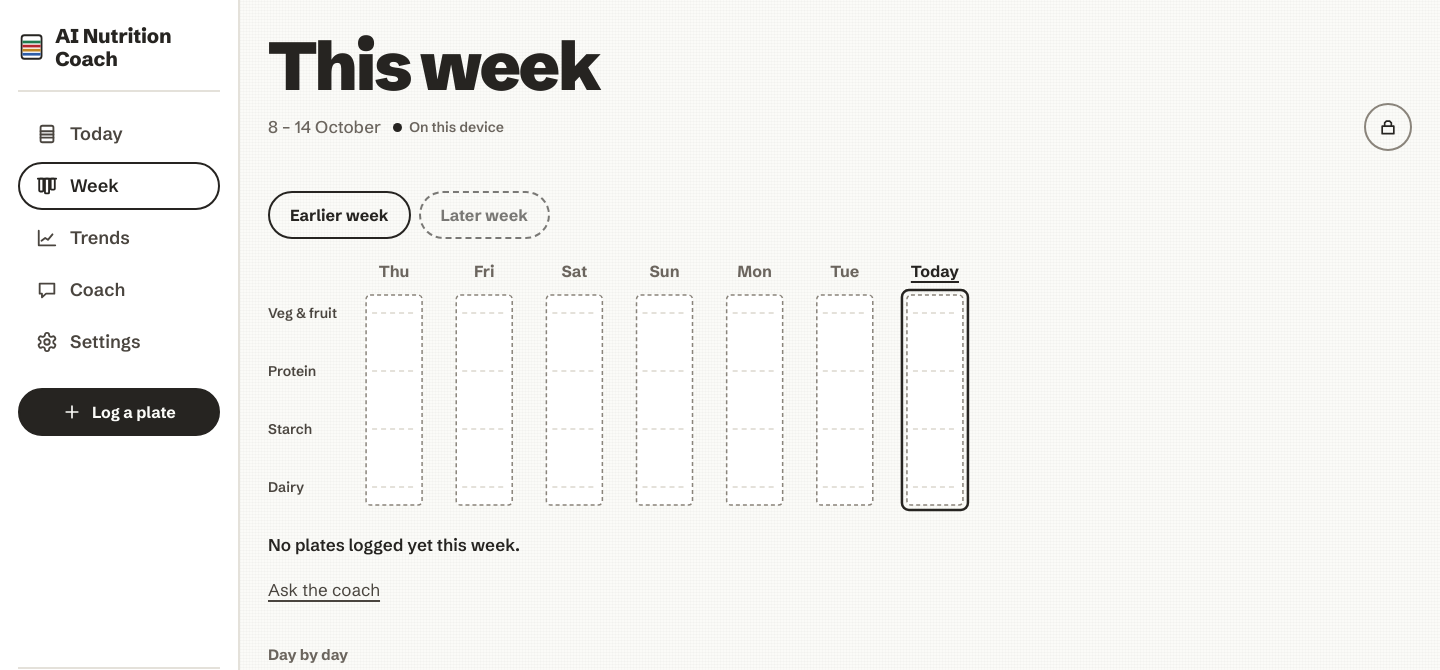
it: WeekScreen: an earlier week says so › an earlier week with nothing logged says it for those dates
Check: the heading "This week" is shown, box left=268, top=24, right=599, bottom=108
Click the button "Earlier week" at [339, 215], box left=268, top=191, right=411, bottom=239
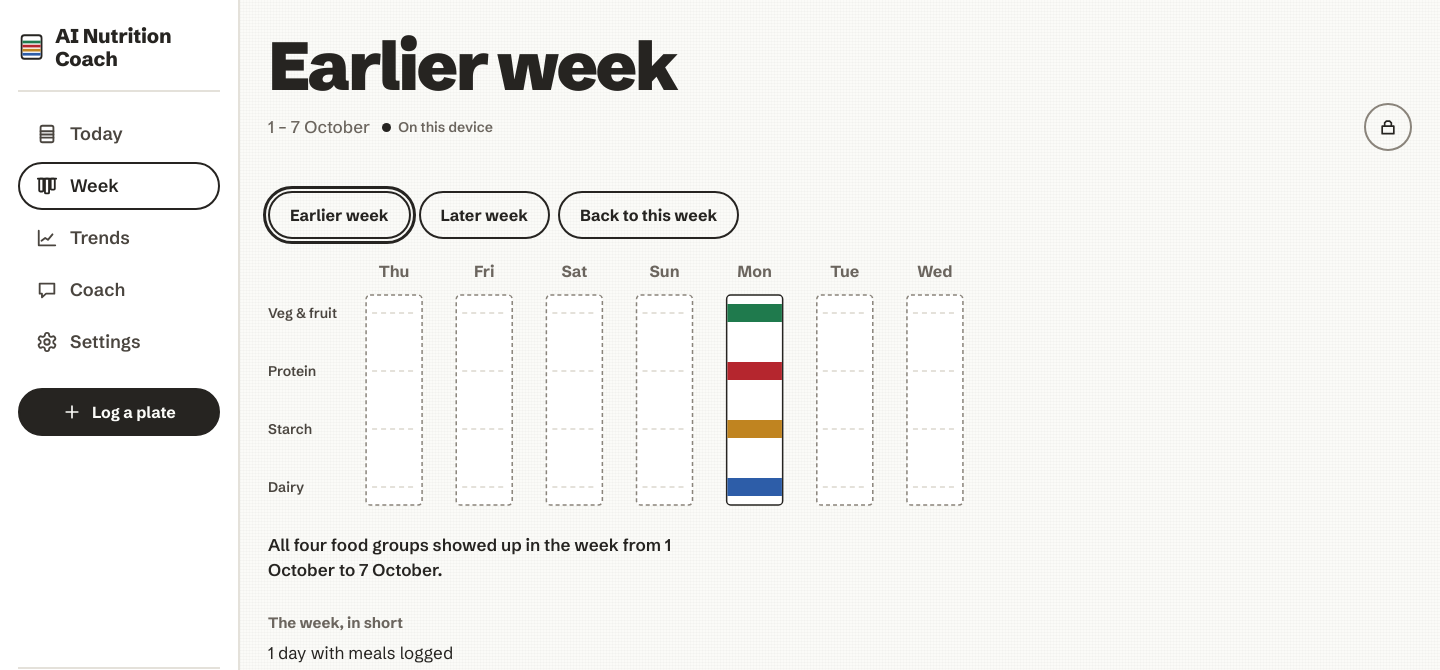
Check: the heading "Earlier week" is shown, box left=268, top=24, right=676, bottom=108
Click the button "Earlier week" at [339, 215], box left=268, top=191, right=411, bottom=239
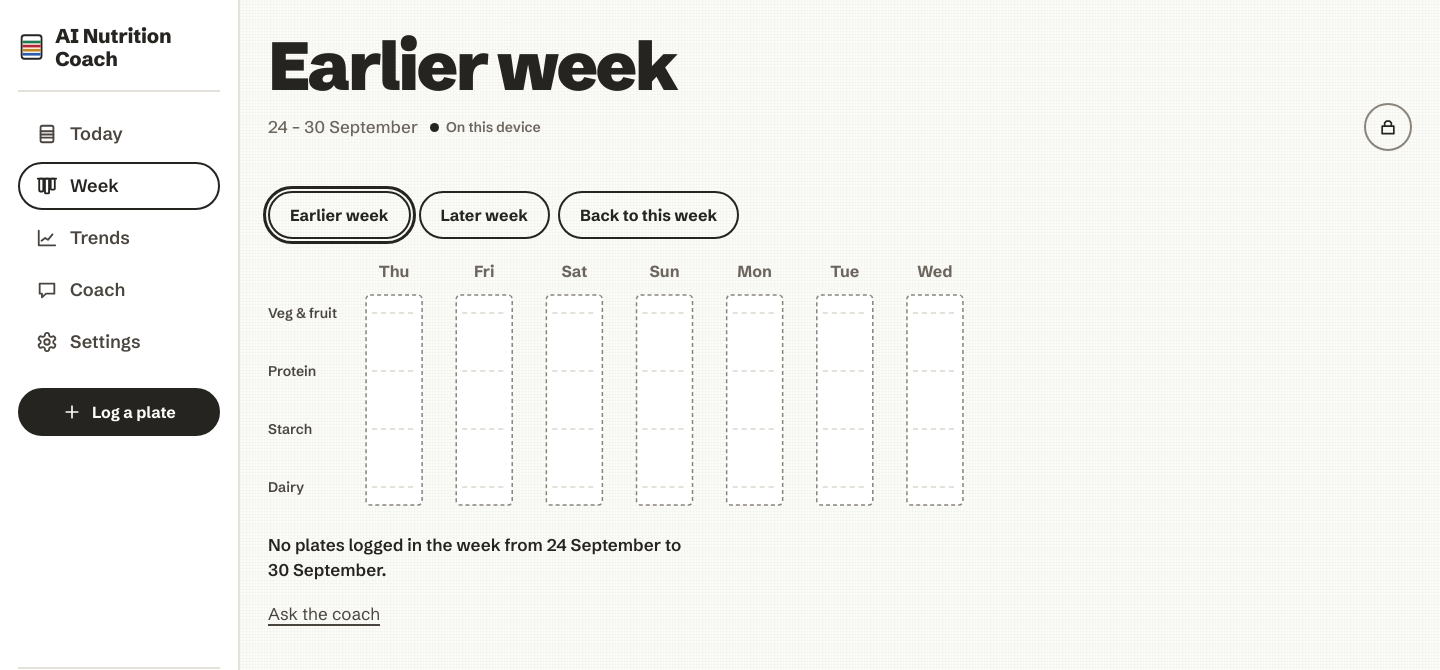
Check: the text "No plates logged in the week from 24 September to 30 September." is shown, box left=268, top=534, right=681, bottom=580
